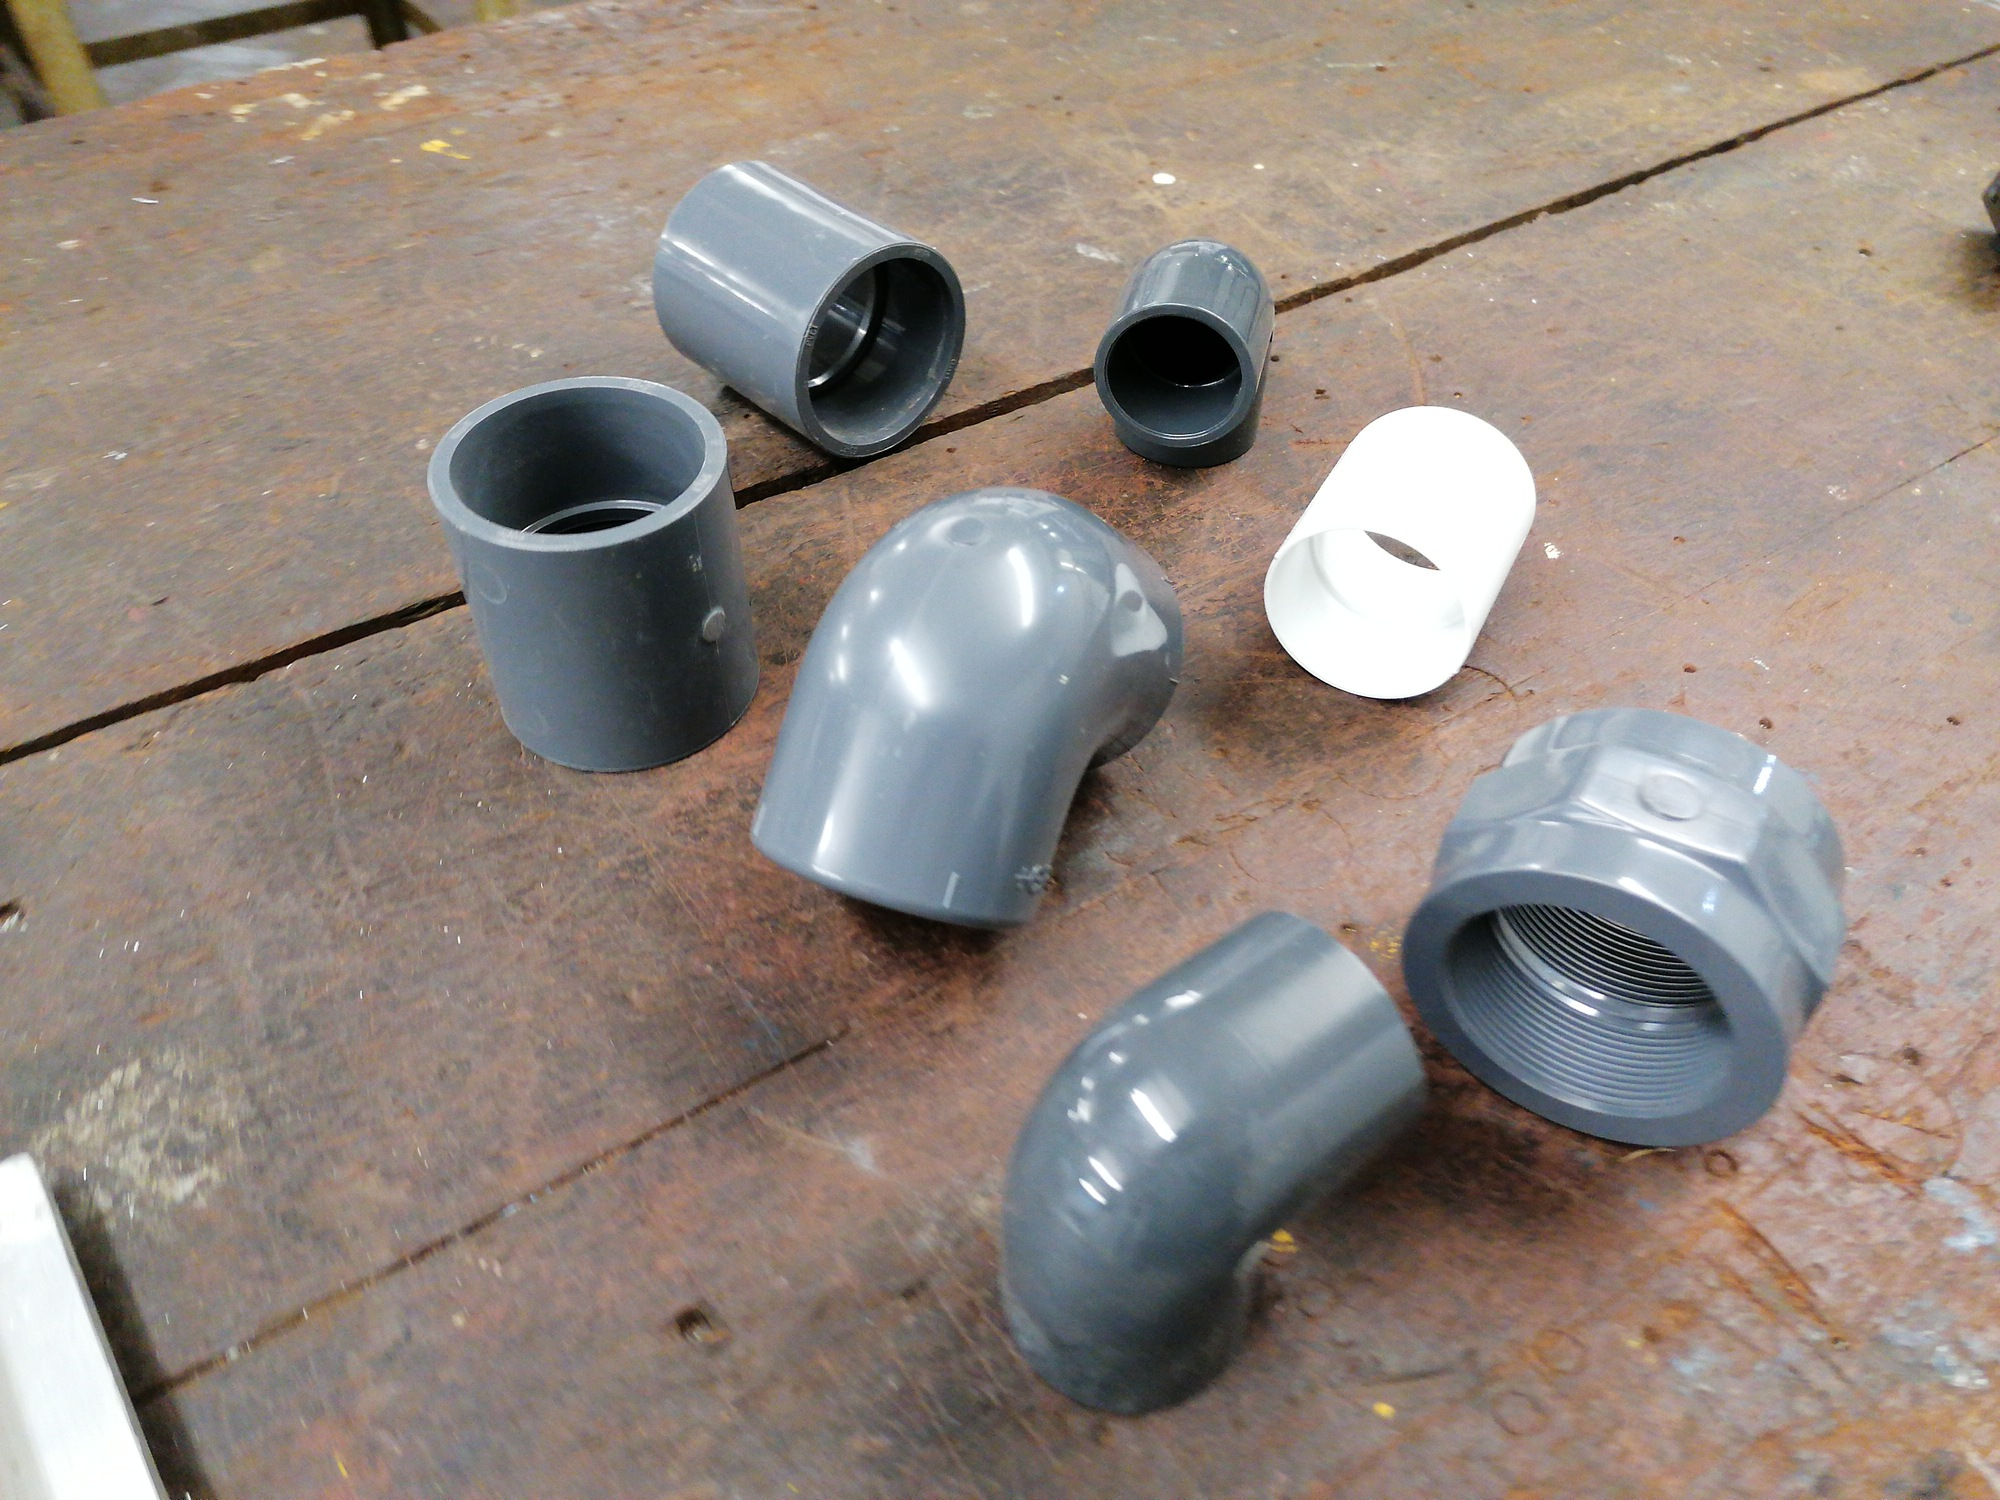nut: (1398, 707, 1857, 1150)
pipe: (989, 901, 1431, 1420), (750, 488, 1186, 928), (424, 369, 764, 774), (647, 162, 970, 459), (1258, 403, 1542, 703), (1090, 236, 1276, 474)
